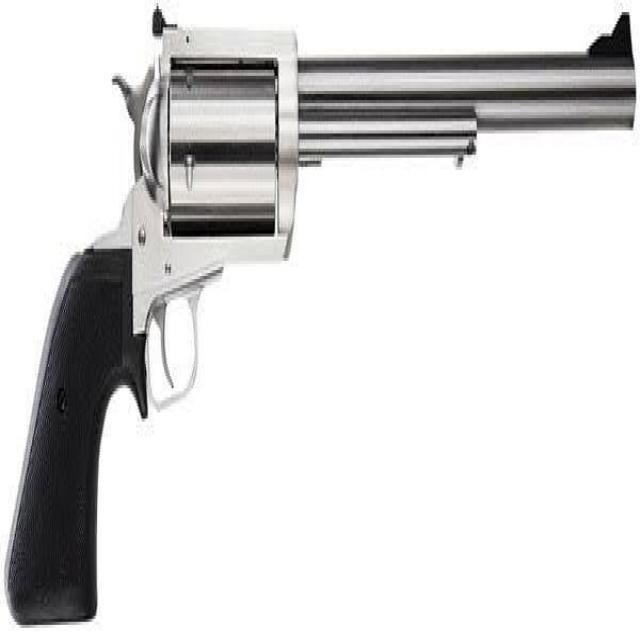revolver: (6, 6, 640, 634)
